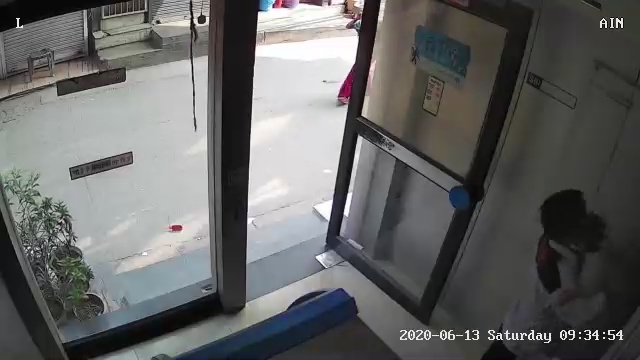open: (205, 7, 545, 315)
